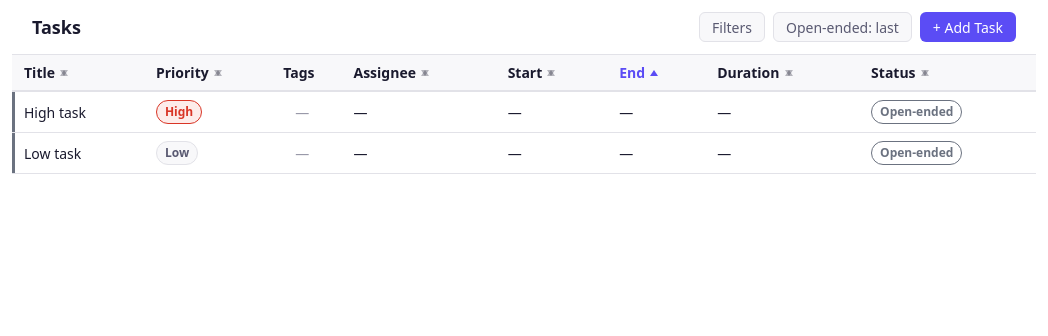
Test case: TaskList › filters by priority
Expected: the text "High task" is shown, [12,91,144,132]
Click the button "Filters" at {"x": 732, "y": 27}, box [699,12,765,42]
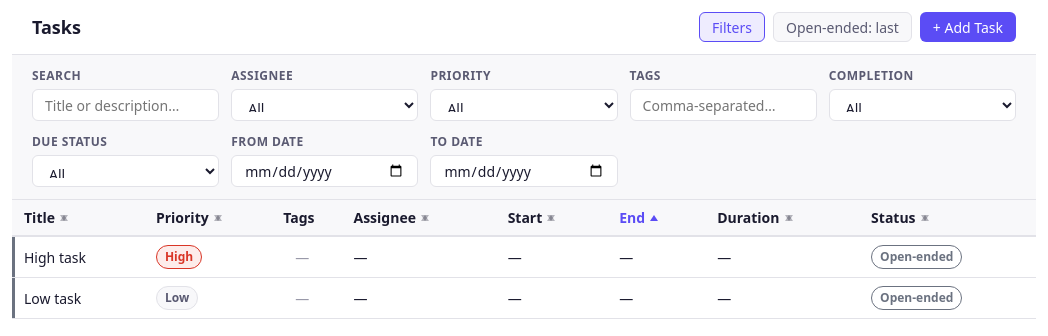
Select "High" in the dropdown labelled "Priority" at {"x": 524, "y": 105}, box [430,89,618,121]
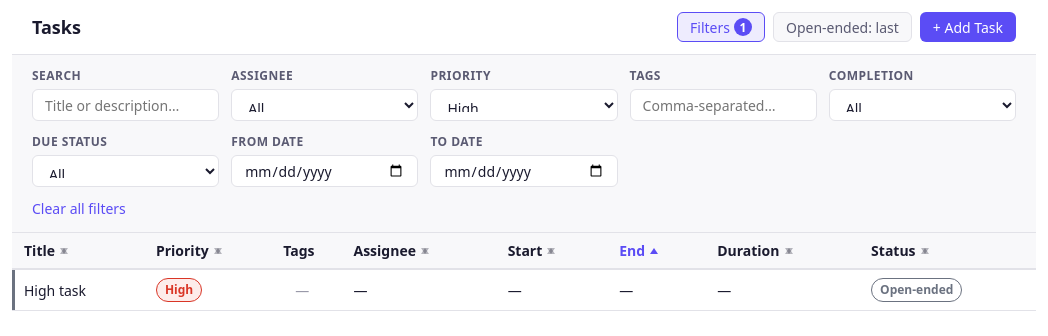
Expected: the text "High task" is shown, [12,269,144,310]
Expected: the text "Low task" is gone
